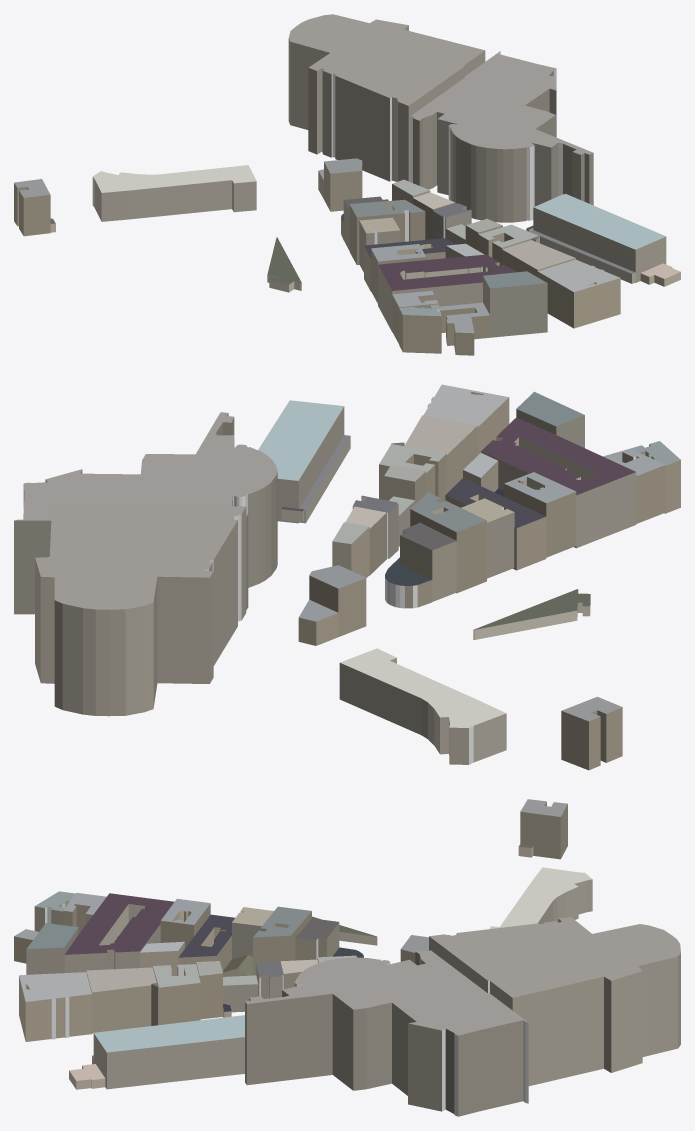
3 renders of one model, top to bottom at view 1: azimuth 30°, elevation 25°; view 2: azimuth 150°, elevation 25°; view 3: azimuth 270°, elevation 25°, orthographic. The views are drawn at different scales.
Parts seen in each view (by area): view 1: tuile; view 2: tuile; view 3: tuile.
Part boxes in pixels (x1,y1,x2,y2): tuile: [14, 14, 680, 355]; tuile: [14, 384, 680, 770]; tuile: [14, 799, 680, 1116].
Size of the model in its own units: 294 by 51.18 by 307.
